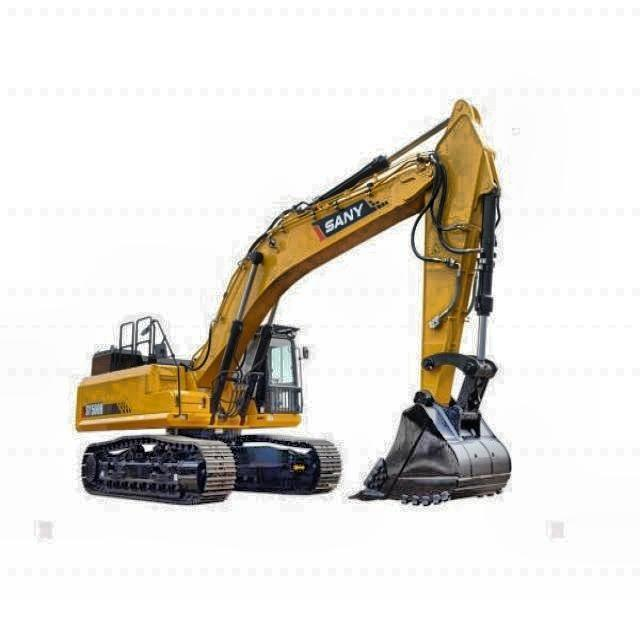excavator: (70, 95, 518, 510)
